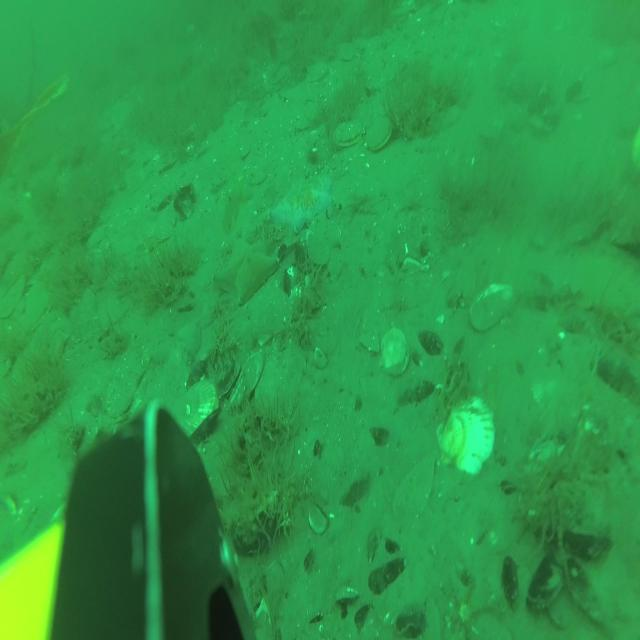scallop: (434, 395, 495, 476), (166, 381, 220, 441), (469, 283, 514, 330), (106, 364, 138, 418), (379, 326, 409, 374), (364, 112, 393, 152), (332, 119, 361, 149)
starfish: (215, 228, 278, 304), (269, 167, 334, 233)
